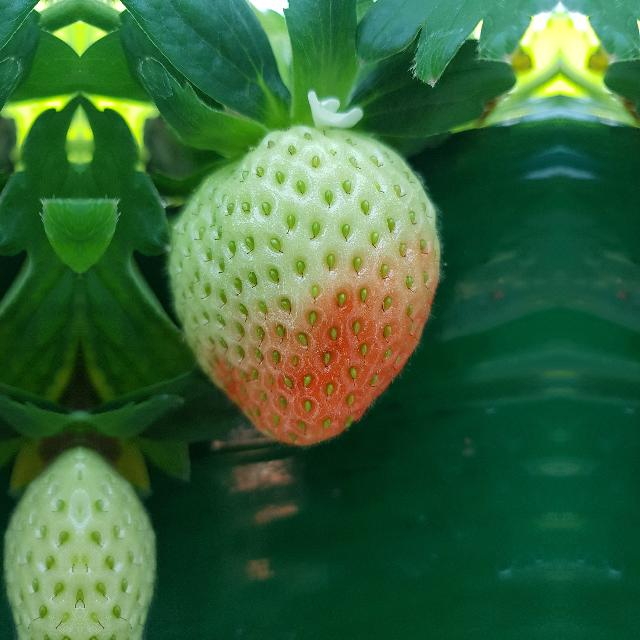Health_50: (165, 125, 442, 448)
